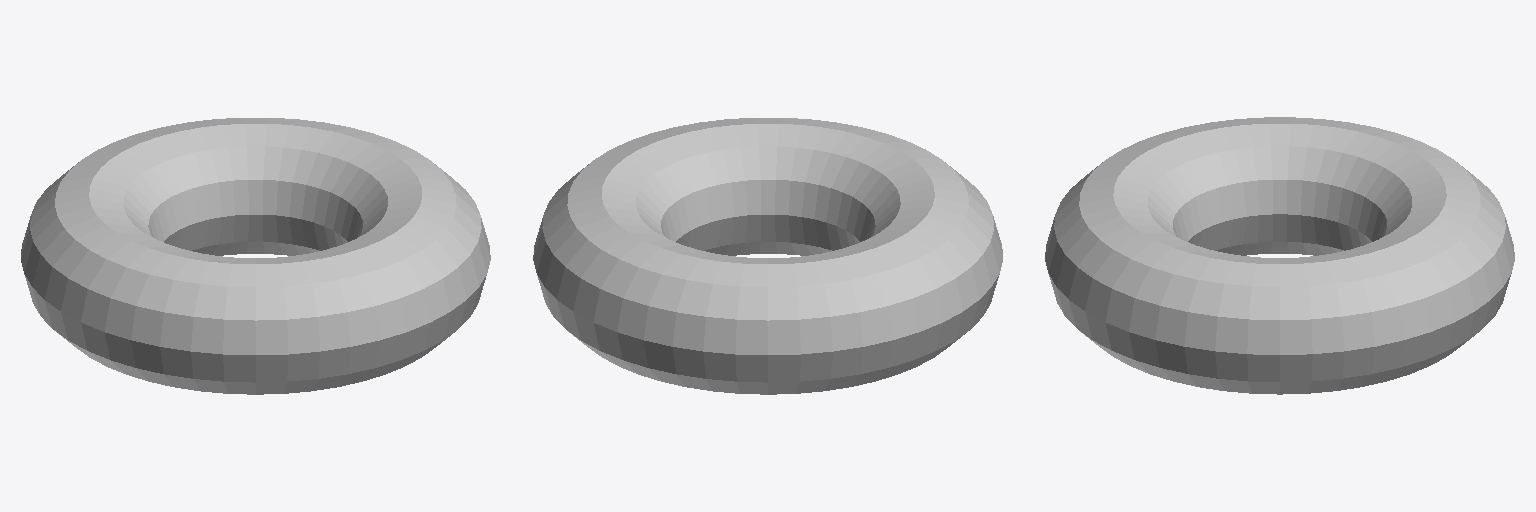
File: smultring.obj
3 views of the same model, side by side, from view 1: azimuth 30°, elevation 25°; view 2: azimuth 150°, elevation 25°; view 3: azimuth 270°, elevation 25° (orthographic).
Bounding box in the file's own units: 3.16 × 0.92 × 3.16.